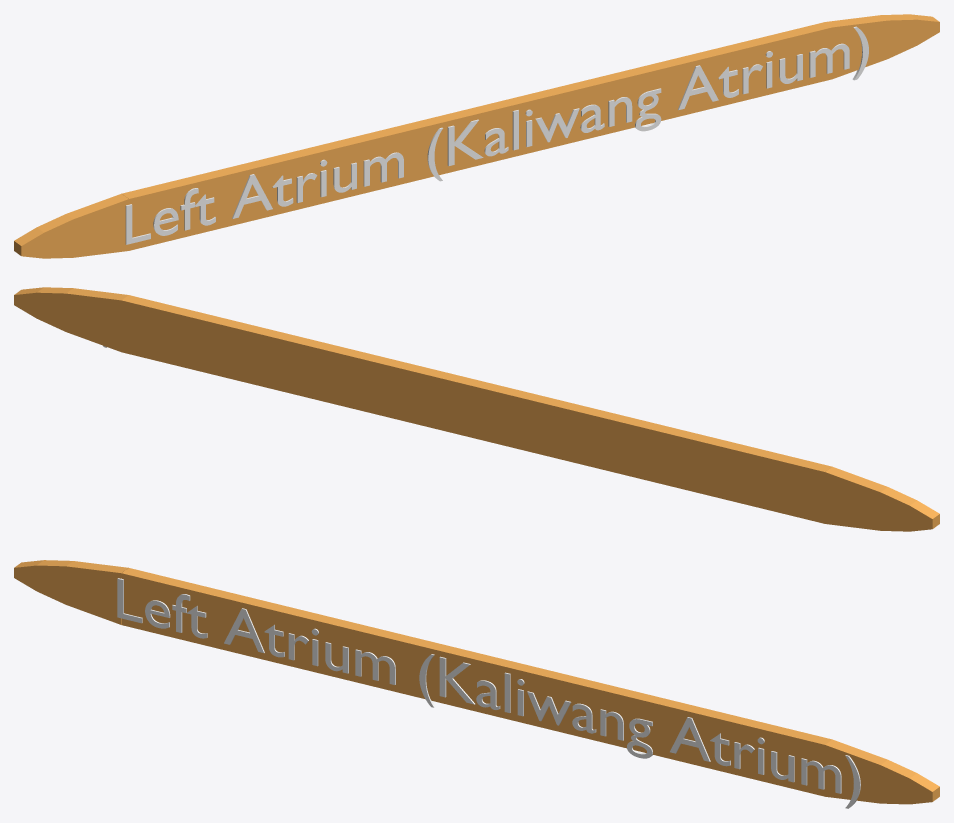
File: txtLeftAtrium.fbx
3 views of the same model, one above another, from view 1: azimuth 30°, elevation 25°; view 2: azimuth 150°, elevation 25°; view 3: azimuth 330°, elevation 25° (orthographic).
Visible parts, largest first — view 1: TagContainer.108, Text.110; view 2: TagContainer.108; view 3: TagContainer.108, Text.110.
Boxes of the visible parts, box(x1,y1,x2,y2) form: TagContainer.108: box(14, 14, 939, 258); Text.110: box(125, 26, 868, 244); TagContainer.108: box(14, 287, 939, 531); TagContainer.108: box(14, 560, 939, 804); Text.110: box(117, 578, 860, 808).
Bounding box in the file's own units: 765 × 45.81 × 11.84.
